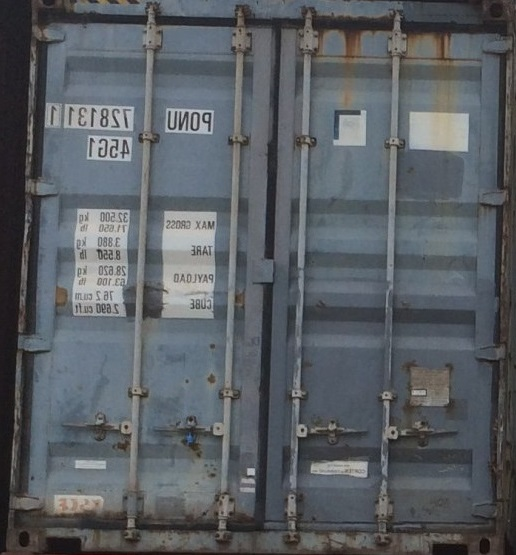container_door: (9, 3, 497, 548)
